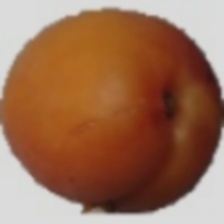apricot: (45, 23, 196, 224)
